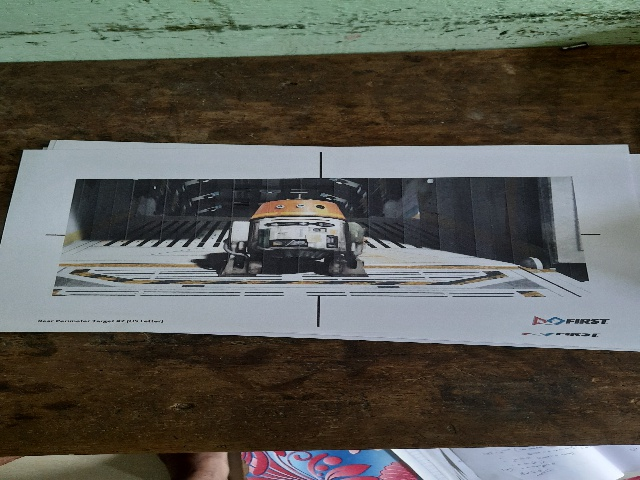rept2: (47, 157, 622, 339)
